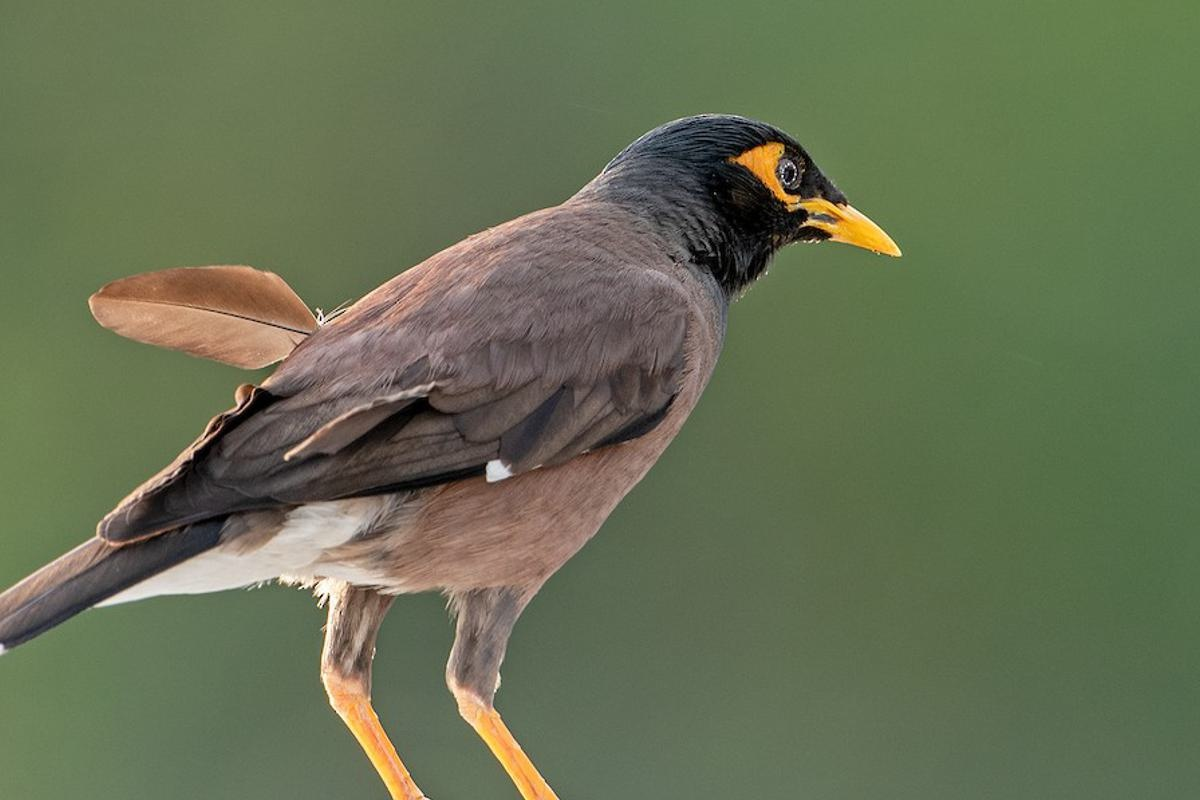myna: (1, 91, 933, 735)
